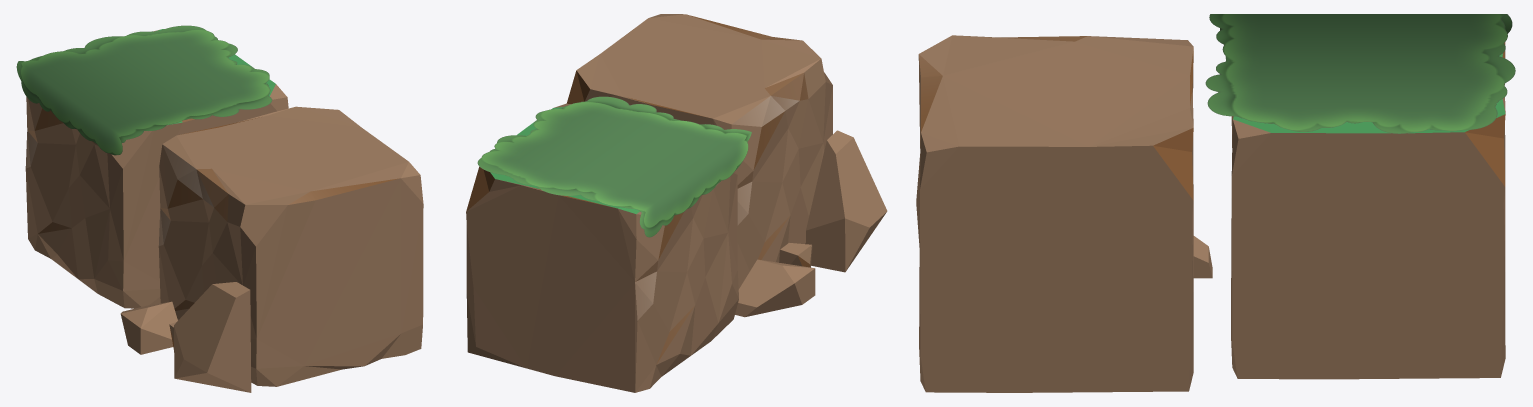
File: Cliff_Cube.fbx
3 views of the same model, side by side, from view 1: azimuth 30°, elevation 25°; view 2: azimuth 150°, elevation 25°; view 3: azimuth 270°, elevation 25° (orthographic). The views are drawn at different scales.
Visible parts, largest first — view 1: Sand.005, Sand.001, Grass_alpha.001, Sand.003, Sand.002; view 2: Sand.001, Sand.005, Grass_alpha.001, Sand.003, Sand.002, Sand.004; view 3: Sand.005, Sand.001, Grass_alpha.001, Sand.002.
Boxes of the visible parts, x1=… form: Sand.005: x1=158, y1=106, x2=423, y2=386; Sand.001: x1=25, y1=29, x2=288, y2=308; Grass_alpha.001: x1=16, y1=25, x2=272, y2=155; Sand.003: x1=174, y1=282, x2=251, y2=392; Sand.002: x1=120, y1=301, x2=177, y2=354; Sand.001: x1=466, y1=103, x2=738, y2=392; Sand.005: x1=566, y1=14, x2=832, y2=289; Grass_alpha.001: x1=477, y1=96, x2=751, y2=237; Sand.003: x1=806, y1=130, x2=887, y2=272; Sand.002: x1=735, y1=259, x2=815, y2=317; Sand.004: x1=779, y1=243, x2=812, y2=267; Sand.005: x1=918, y1=35, x2=1193, y2=392; Sand.001: x1=1231, y1=42, x2=1505, y2=379; Grass_alpha.001: x1=1205, y1=14, x2=1515, y2=133; Sand.002: x1=1193, y1=236, x2=1212, y2=278.
Bounding box in the file's own units: 1.28 × 1.02 × 2.2.
